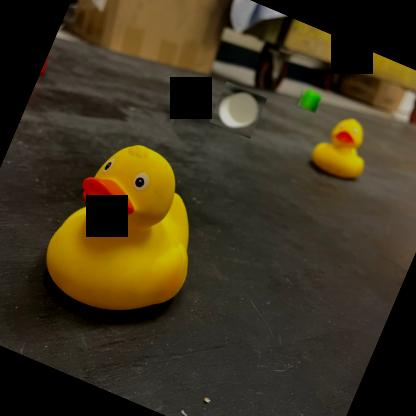duck: (29, 122, 230, 340), (303, 106, 383, 189)
green cylinder: (296, 86, 323, 113)
white cylinder: (209, 82, 266, 138)
